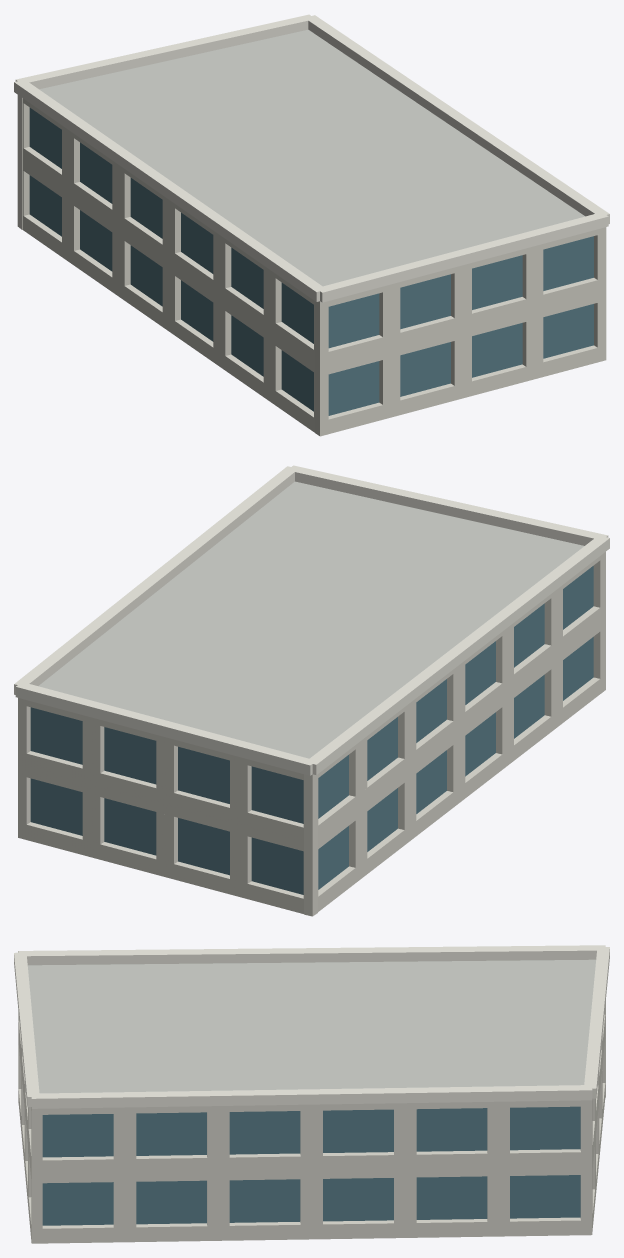
The model's file is sb_1556523890.far.glb.
3 views of the same model, one above another, from view 1: azimuth 30°, elevation 25°; view 2: azimuth 150°, elevation 25°; view 3: azimuth 270°, elevation 25° (orthographic). The views are drawn at different scales.
Visible parts, largest first — view 1: roof, wall, glass, trim; view 2: roof, wall, glass, trim; view 3: roof, wall, glass, trim.
Part boxes in pixels (x1,y1,x2,y2): roof: [39, 29, 584, 286]; wall: [17, 95, 606, 436]; glass: [29, 107, 593, 415]; trim: [14, 14, 609, 302]; roof: [38, 481, 584, 758]; wall: [18, 552, 605, 916]; glass: [30, 566, 593, 894]; trim: [14, 465, 609, 775]; roof: [27, 959, 595, 1093]; wall: [18, 1001, 605, 1243]; glass: [42, 1106, 580, 1225]; trim: [14, 945, 609, 1108].
Size of the model in its own units: 14.47 by 6.44 by 23.72.
